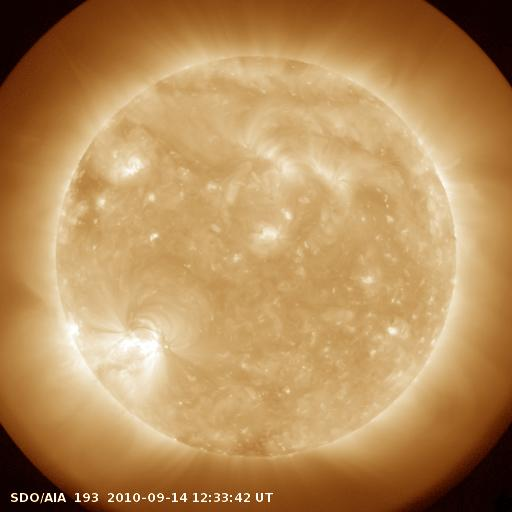coronal_hole: (56, 153, 121, 210)
